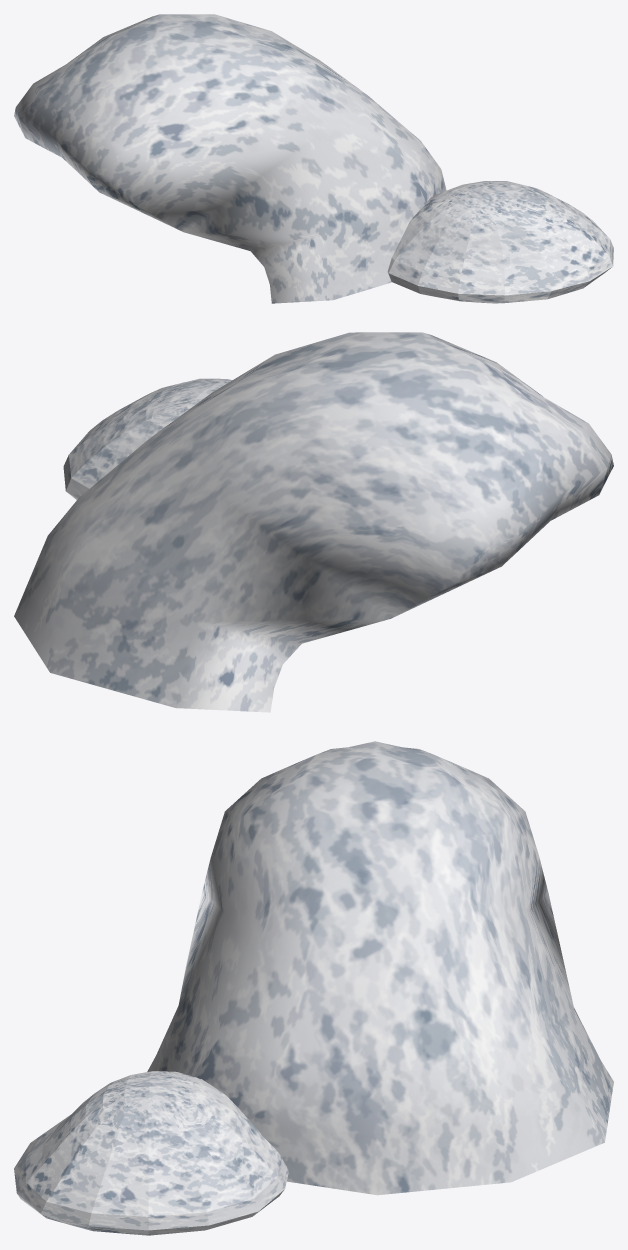
Rendered from plataforma_granizo.fbx.
3 renders of one model, top to bottom at view 1: azimuth 30°, elevation 25°; view 2: azimuth 150°, elevation 25°; view 3: azimuth 270°, elevation 25°, orthographic. The views are drawn at different scales.
Visible parts, largest first — view 1: Cube, Cube.002; view 2: Cube, Cube.002; view 3: Cube, Cube.002.
Boxes of the visible parts, box(x1,y1,x2,y2) form: Cube: box(14, 14, 446, 303); Cube.002: box(387, 181, 613, 303); Cube: box(14, 332, 613, 712); Cube.002: box(63, 378, 232, 499); Cube: box(147, 741, 613, 1195); Cube.002: box(14, 1071, 288, 1235).
Size of the model in its own units: 11.32 by 5.44 by 10.32.
